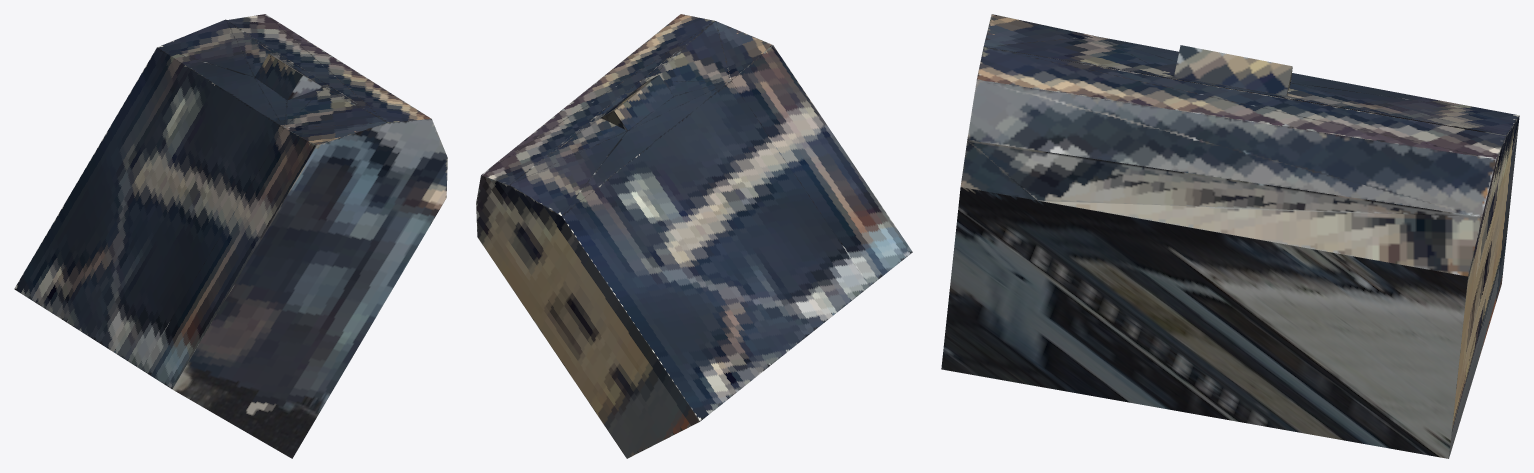
The picture shows the model from 3 angles, left to right: view 1: azimuth 30°, elevation 25°; view 2: azimuth 150°, elevation 25°; view 3: azimuth 270°, elevation 25°; orthographic projection. The views are drawn at different scales.
Parts seen in each view (by area): view 1: BAG_0599100000760481 (×4); view 2: BAG_0599100000760481 (×4); view 3: BAG_0599100000760481 (×3).
Boxes of the visible parts, <box> form: BAG_0599100000760481 (×4): <box>14,14,447,458</box>; BAG_0599100000760481 (×4): <box>476,14,912,458</box>; BAG_0599100000760481 (×3): <box>941,14,1519,458</box>.
Bounding box in the file's own units: 11.52 × 12.54 × 14.26.
Materials: 4 (4 with a texture image).
